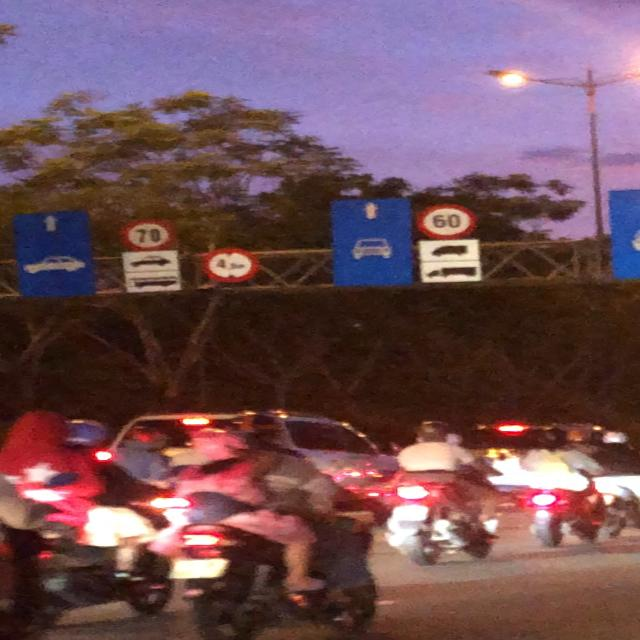Bien bao han che chieu cao: (197, 244, 263, 285)
Bien bao toc do toi da cho phep: (415, 198, 482, 241), (116, 216, 181, 254)
